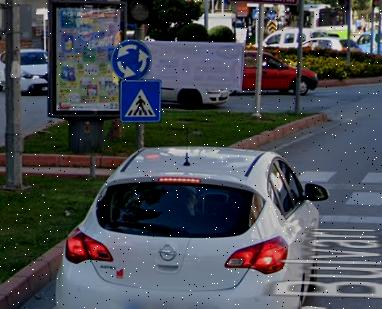crossroads: (114, 41, 150, 78)
